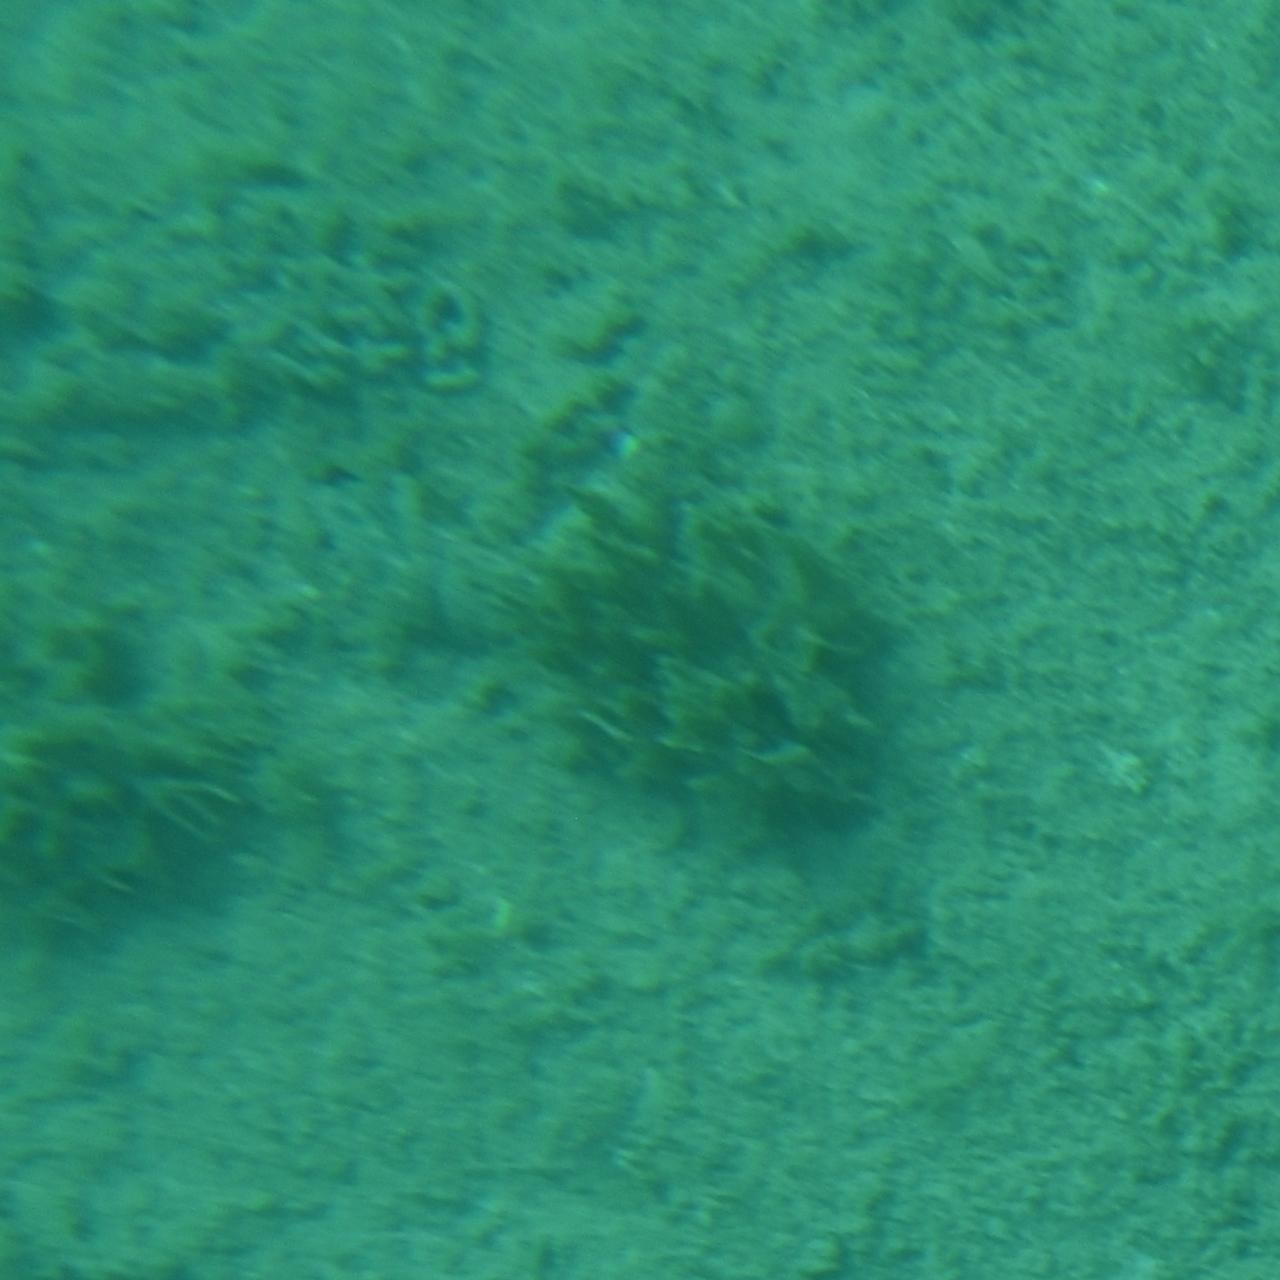Holothuria tubulosa: (272, 502, 654, 681)
Phaeophyceae -cfr Cystoseira-: (537, 486, 938, 839)
